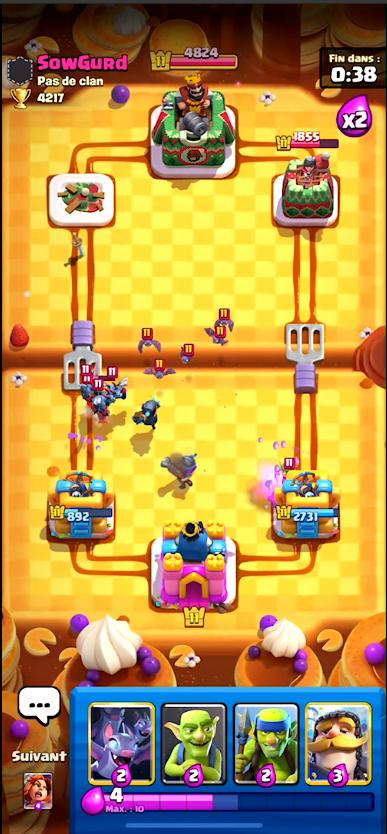bat: (138, 328, 160, 355), (145, 361, 175, 379), (206, 326, 230, 345), (215, 307, 232, 328), (181, 344, 195, 362)
gargouille: (78, 366, 95, 401), (107, 372, 126, 401), (92, 383, 106, 413)
gobelin: (277, 458, 296, 475)
mini_PEKKA: (133, 398, 160, 432)
mousquetaire: (163, 452, 198, 486)
